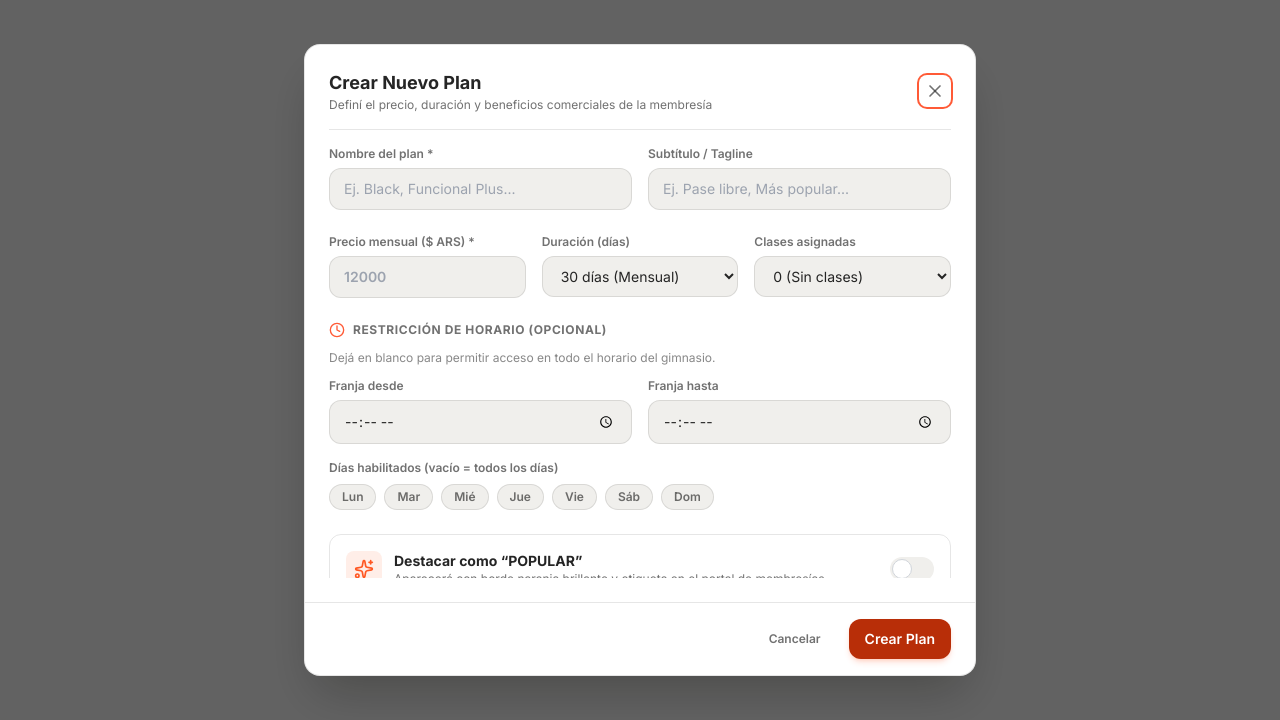
Test case: PlanFormModal › shows inline error when nombre is empty on submit
The width and height of the screenshot is (1280, 720).
// Leave nombre empty, fill precio
In the number field with placeholder "12000": (427, 277) [329,256,526,298], type "5000"
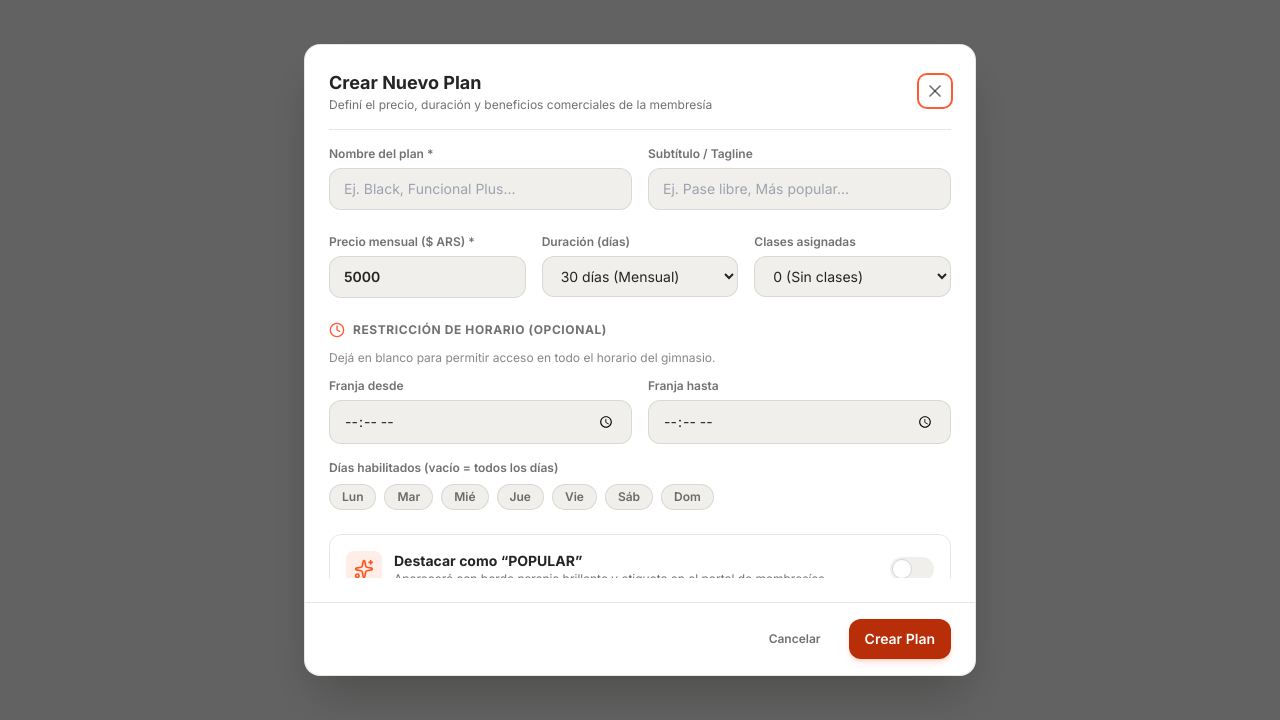
Click the button "Crear Plan": (900, 639) [849,619,951,659]
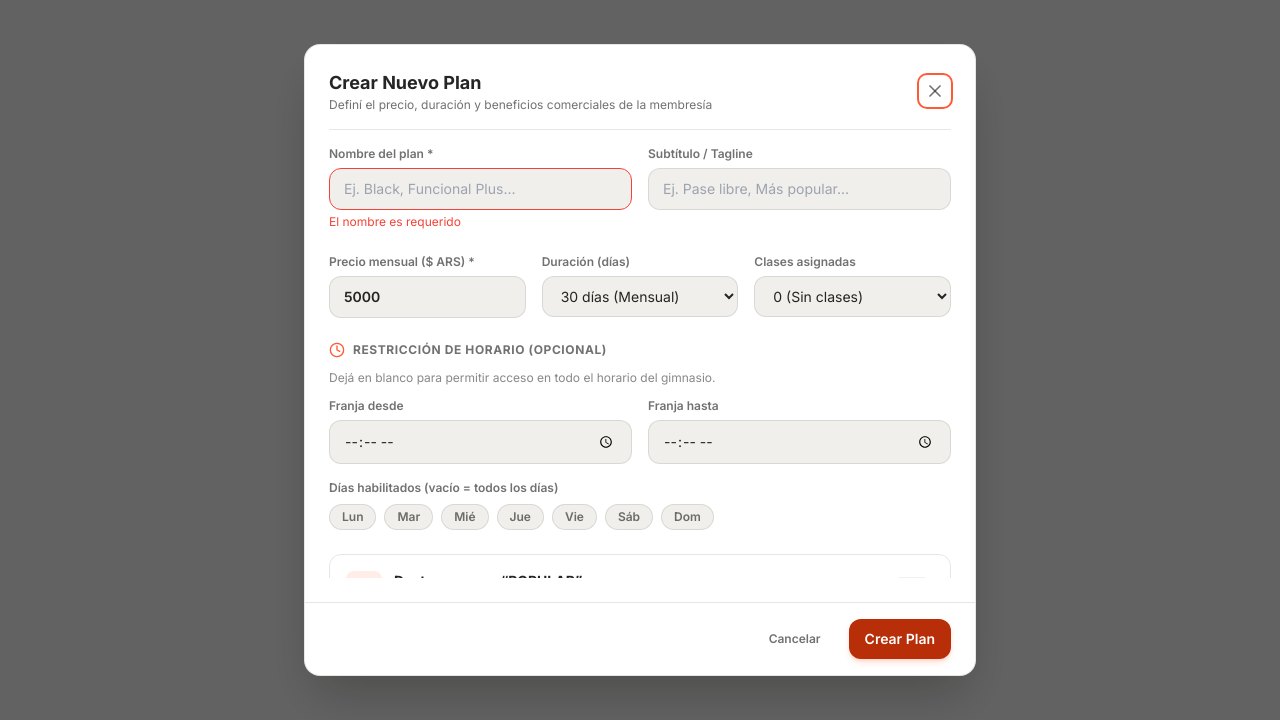
Expected: the text "El nombre es requerido" is shown, [329,214,461,229]
